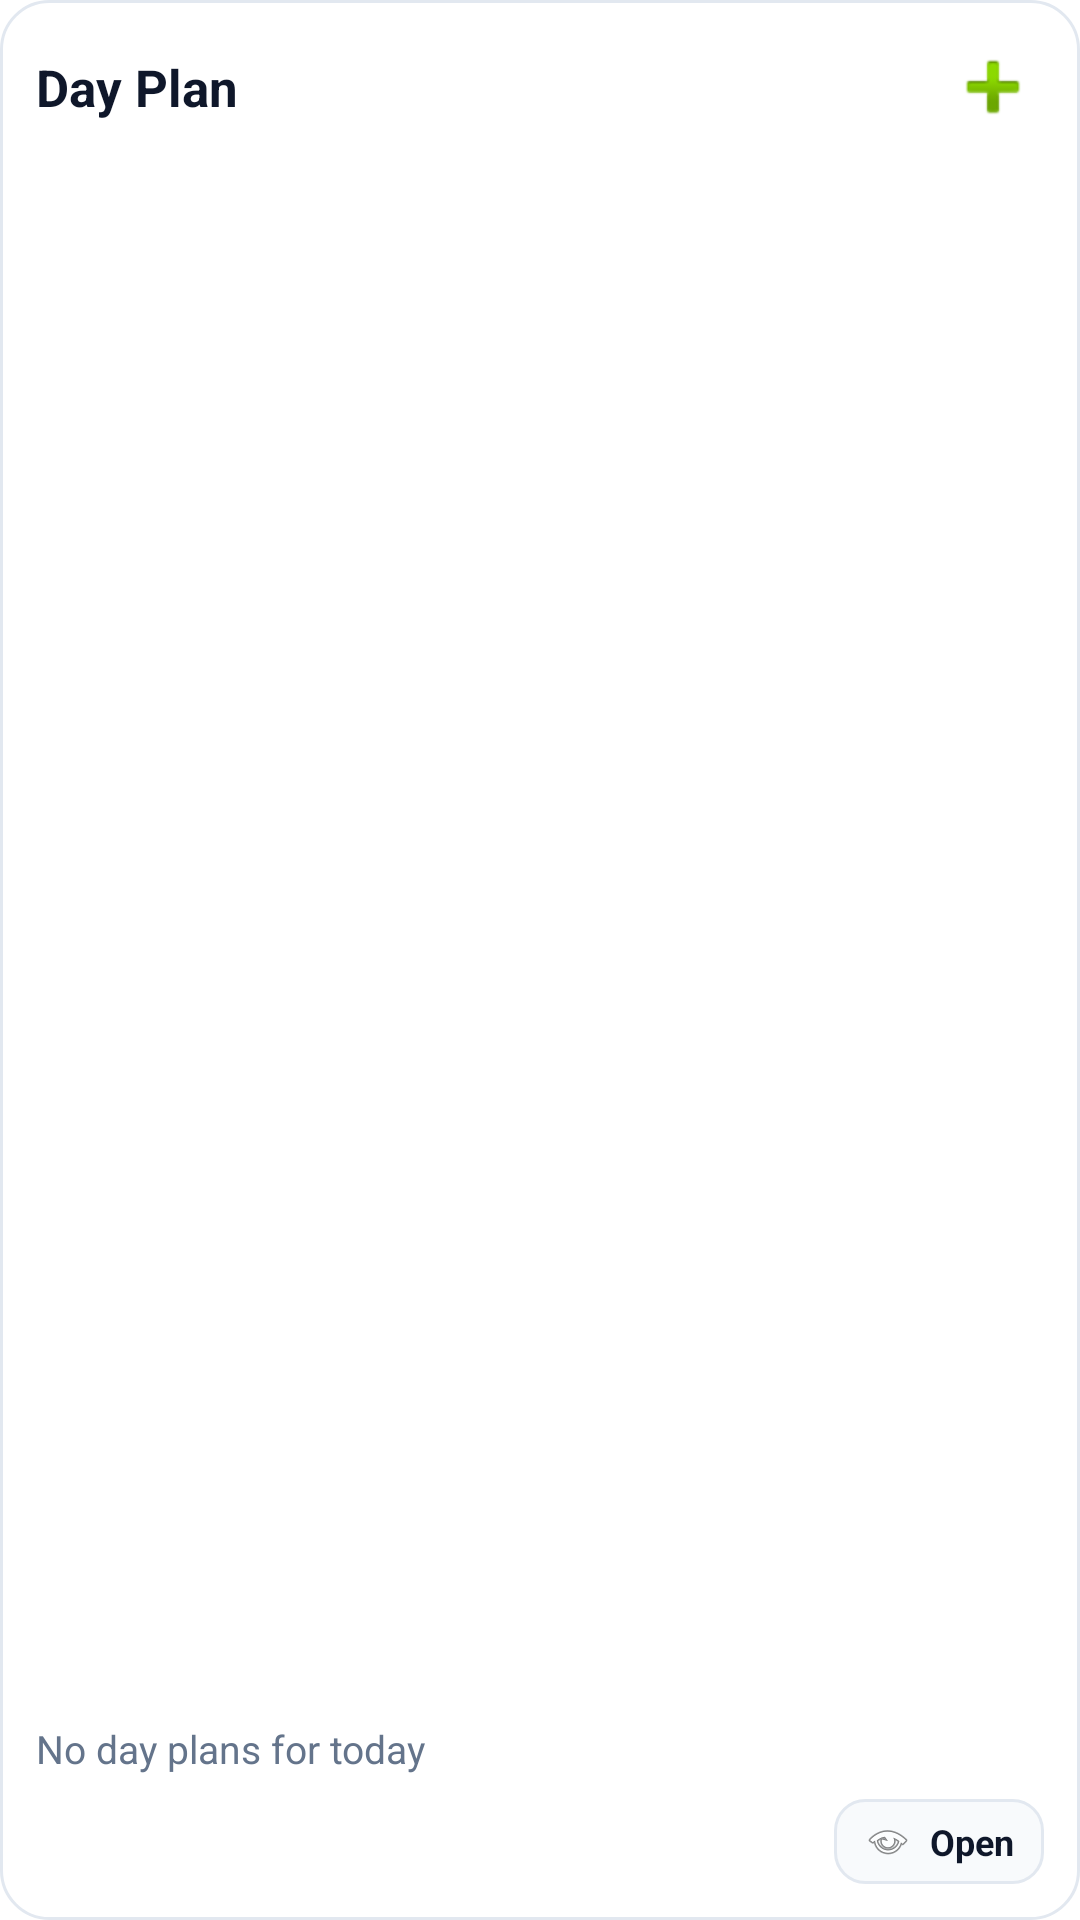

Where to tap for icons on this 1080*1920 app screen, as (x,y):
Add task: (993,87)
